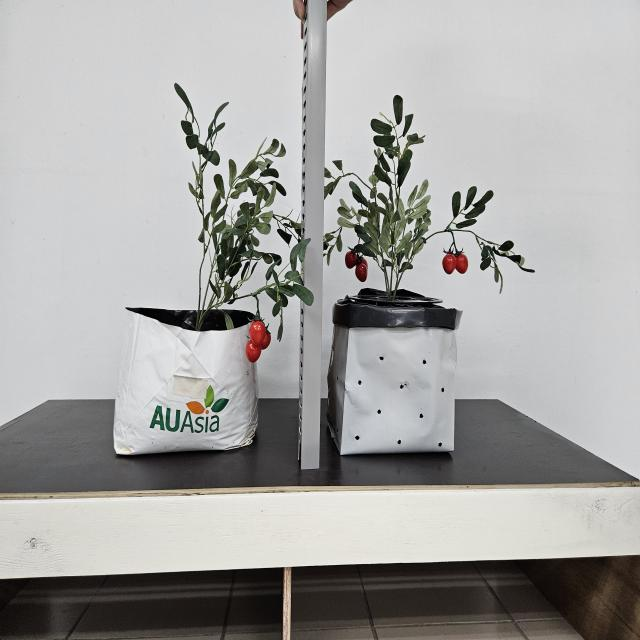Soilbag: (113, 308, 259, 457), (332, 291, 461, 458)
Tomato: (442, 222, 469, 275), (245, 320, 271, 363), (345, 245, 368, 283)
plant: (323, 96, 533, 302), (173, 84, 314, 364)
